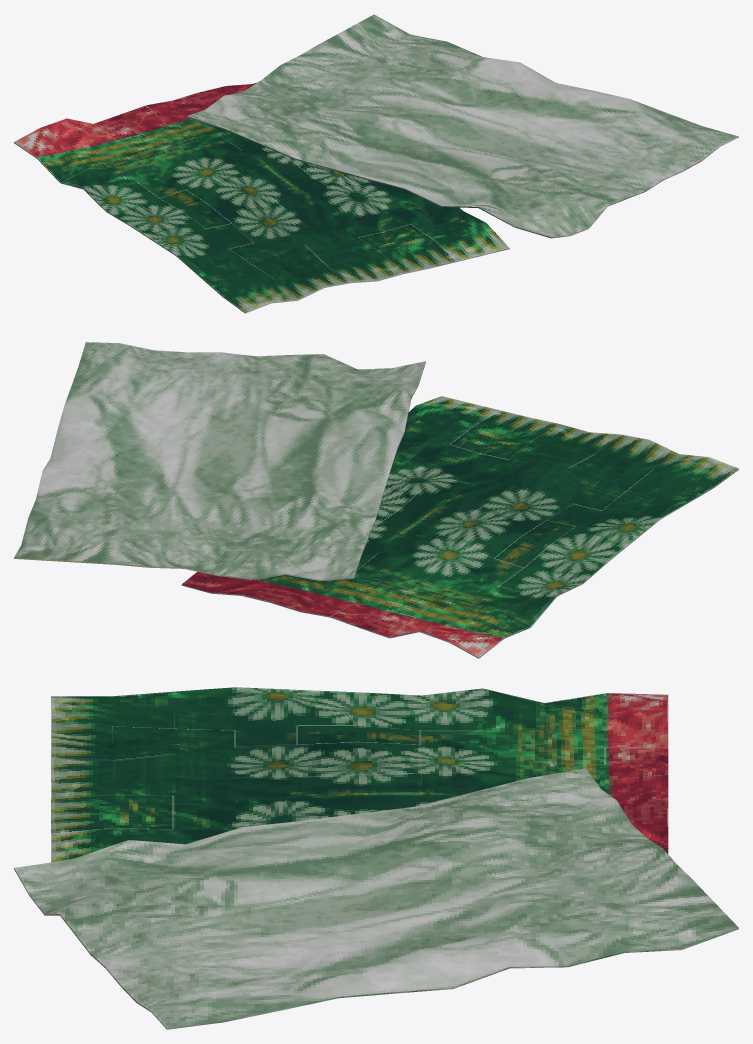
Rendered from candy_wrap.glb.
The picture shows the model from 3 angles, top to bottom: view 1: azimuth 30°, elevation 25°; view 2: azimuth 150°, elevation 25°; view 3: azimuth 270°, elevation 25°; orthographic projection. The views are drawn at different scales.
Parts seen in each view (by area): view 1: mesh; view 2: mesh; view 3: mesh.
Boxes of the visible parts, box(x1,y1,x2,y2) form: mesh: box(14, 14, 738, 313); mesh: box(14, 342, 738, 658); mesh: box(14, 687, 738, 1029).
Size of the model in its own units: 0.6386 by 0.03 by 0.5588.
1 material, 1 textured.
